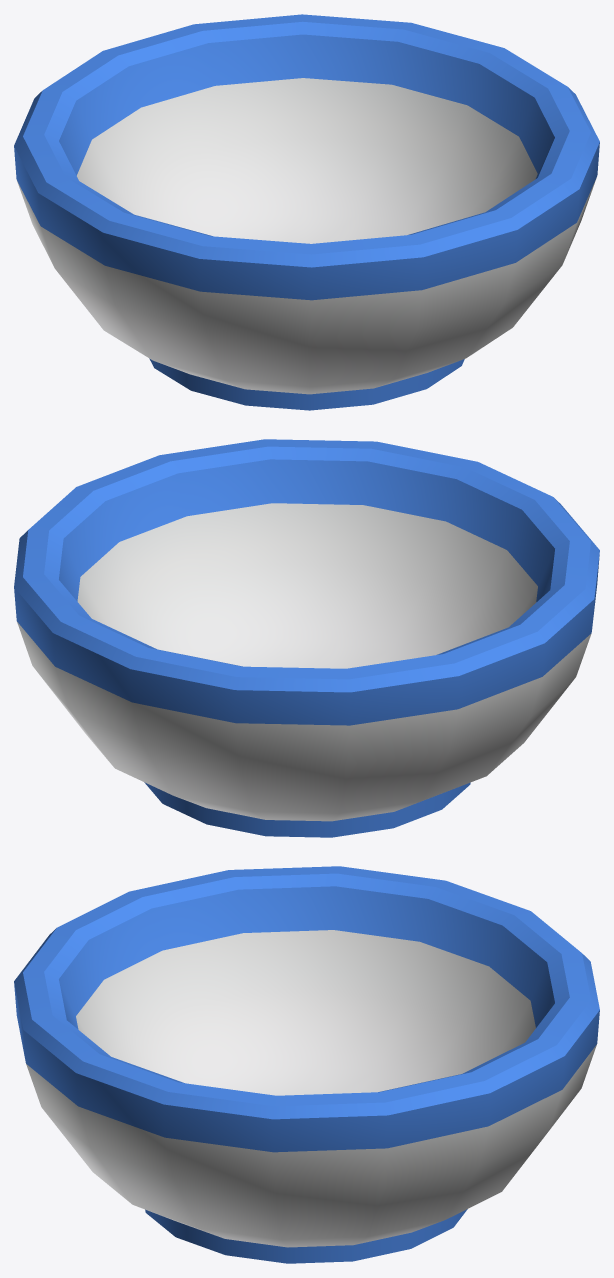
File: Bowl_1_B.glb
3 renders of one model, top to bottom at view 1: azimuth 30°, elevation 25°; view 2: azimuth 150°, elevation 25°; view 3: azimuth 270°, elevation 25°, orthographic.
Parts seen in each view (by area): view 1: Bowl_1_B; view 2: Bowl_1_B; view 3: Bowl_1_B.
Part boxes in pixels (x1,y1,x2,y2): Bowl_1_B: [14, 14, 599, 410]; Bowl_1_B: [14, 439, 599, 837]; Bowl_1_B: [14, 866, 599, 1263].
Size of the model in its own units: 0.4119 by 0.1643 by 0.4119.
1 material, 1 textured.
